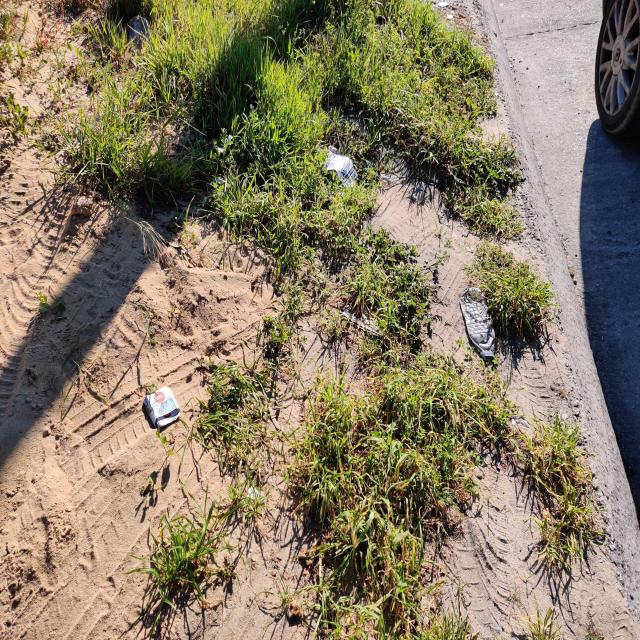litter: (128, 371, 188, 444), (303, 149, 360, 193)
